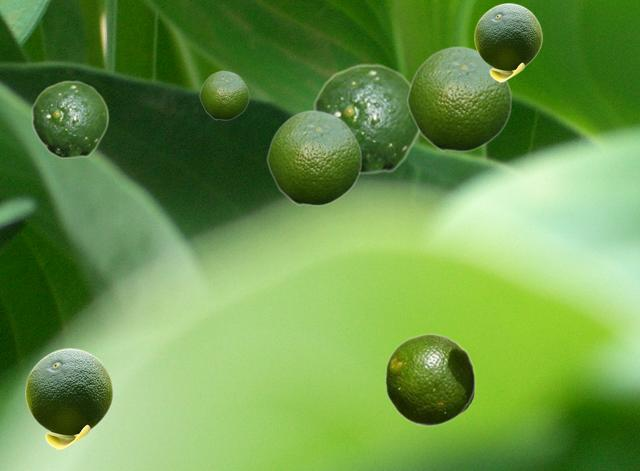calamansi: (313, 63, 419, 174), (406, 45, 511, 151), (266, 109, 361, 205), (25, 348, 112, 449), (384, 333, 475, 425), (31, 80, 108, 158), (474, 3, 541, 81), (199, 70, 248, 119)
